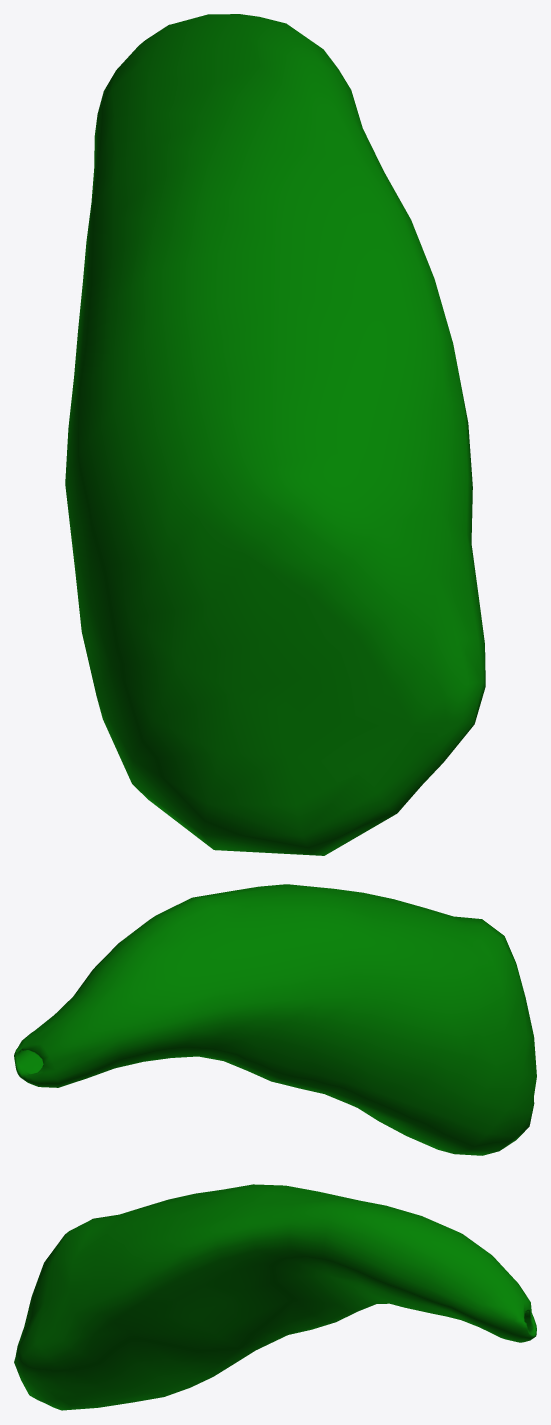
File: VH_M_Gallbladder.fbx
3 views of the same model, one above another, from view 1: azimuth 30°, elevation 25°; view 2: azimuth 150°, elevation 25°; view 3: azimuth 270°, elevation 25° (orthographic). The views are drawn at different scales.
Visible parts, largest first — view 1: VH_M_gallbladder; view 2: VH_M_gallbladder; view 3: VH_M_gallbladder.
Part boxes in pixels (x1=…): VH_M_gallbladder: x1=65, y1=14, x2=485, y2=855; VH_M_gallbladder: x1=14, y1=884, x2=536, y2=1155; VH_M_gallbladder: x1=14, y1=1184, x2=536, y2=1410.
Size of the model in its own units: 4.24 by 4.17 by 7.28.
